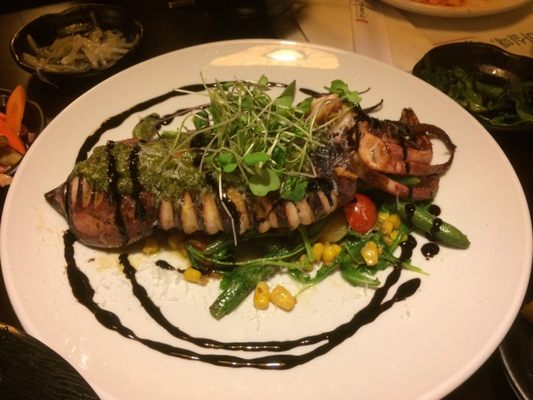sushi: (412, 41, 533, 134), (11, 4, 144, 85)
